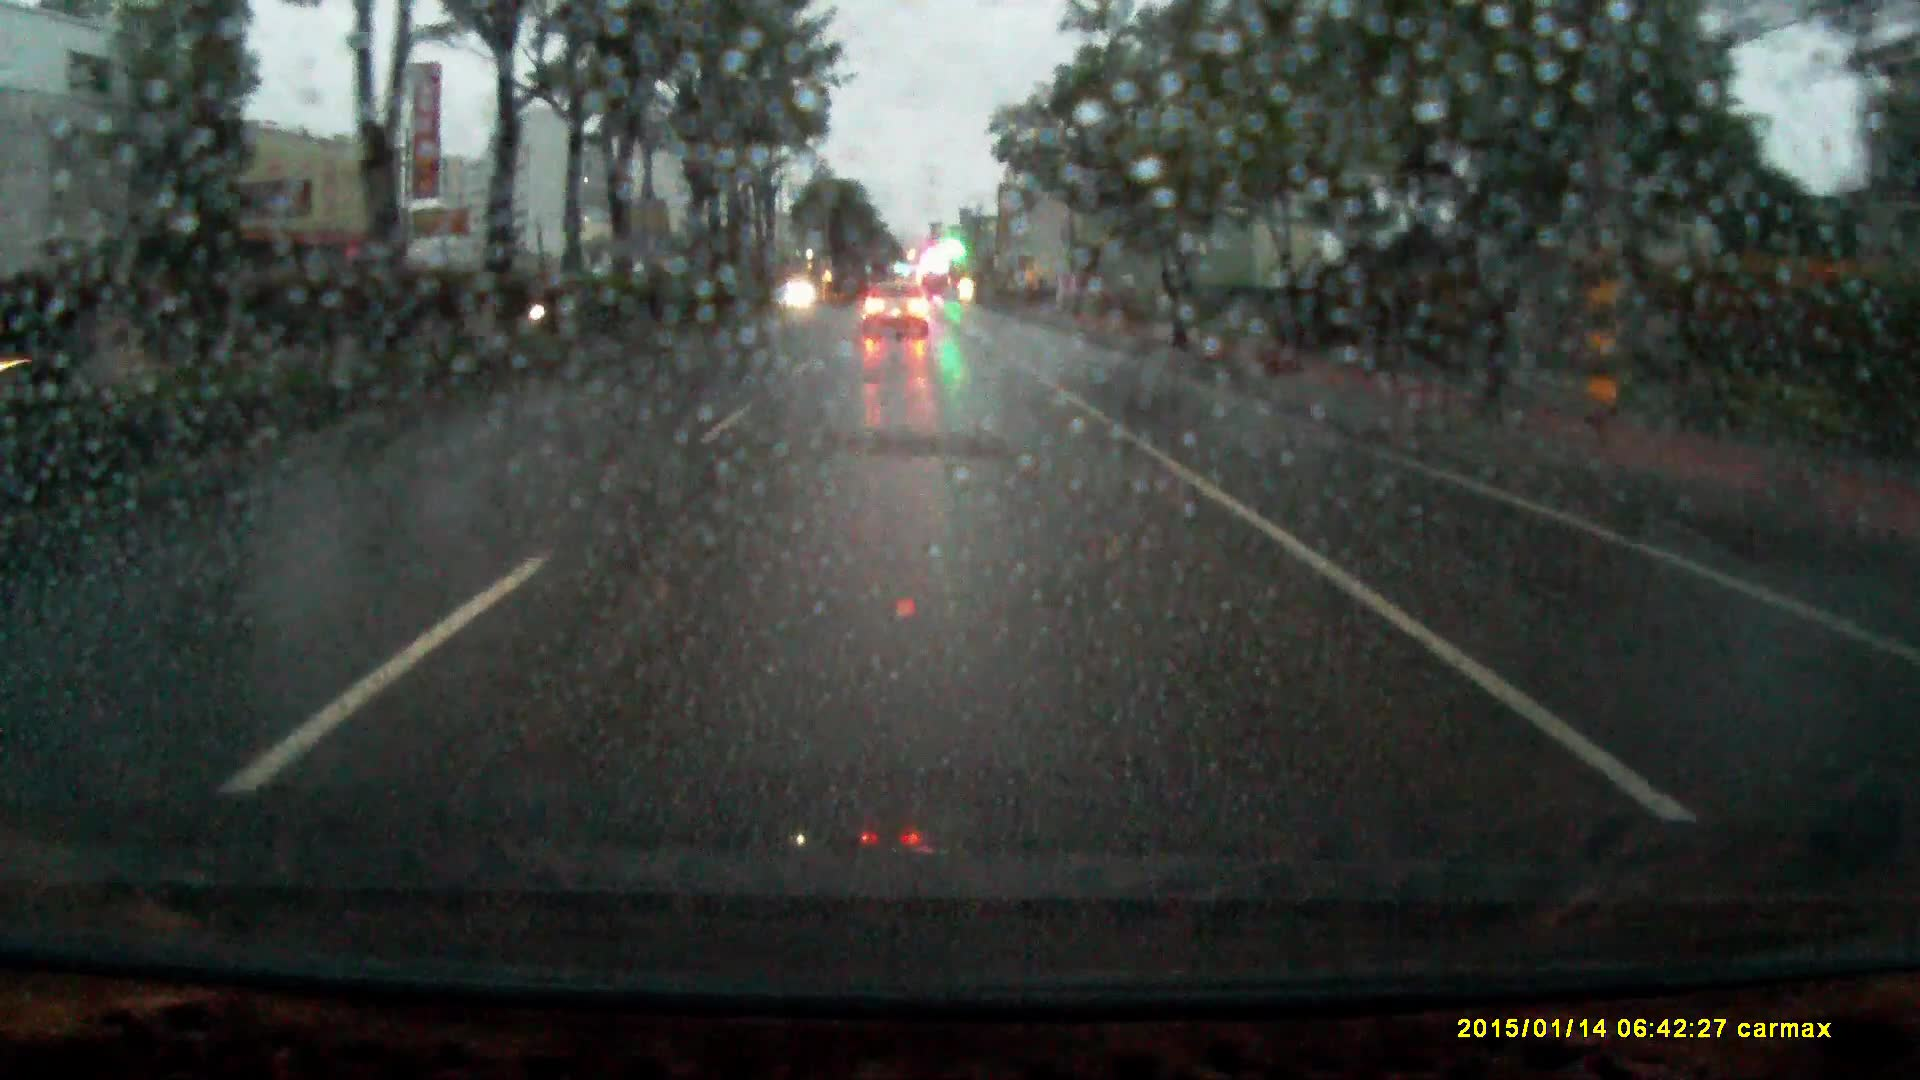vehicle: (862, 287, 931, 345)
